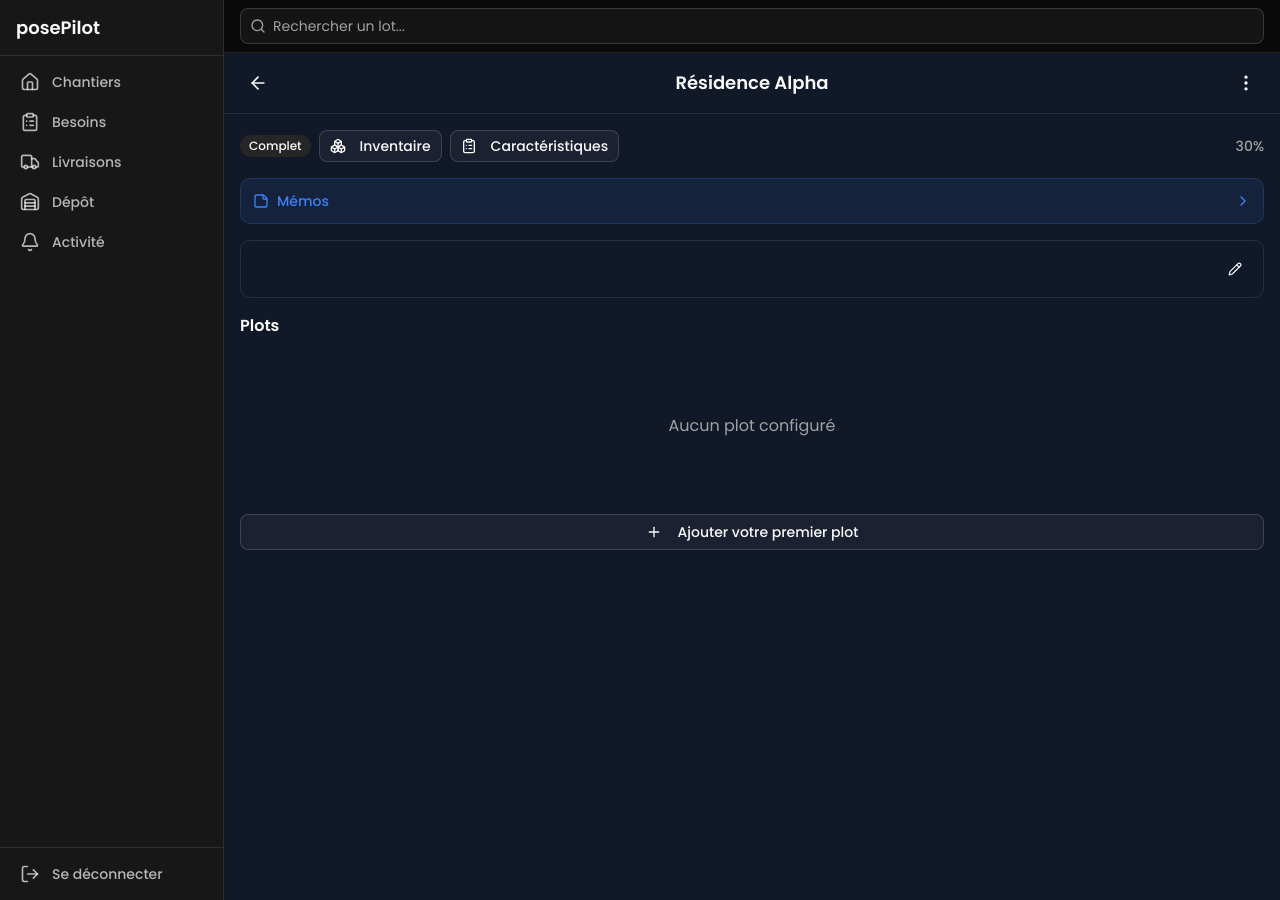
it: ChantierPage › opens dropdown menu with "Marquer comme terminé" and "Supprimer" options
This screenshot has width=1280, height=900.
Expected: the heading "Résidence Alpha" is shown, [676, 69, 829, 97]
Click the button named "Options du chantier": [1246, 83] box [1228, 65, 1264, 101]
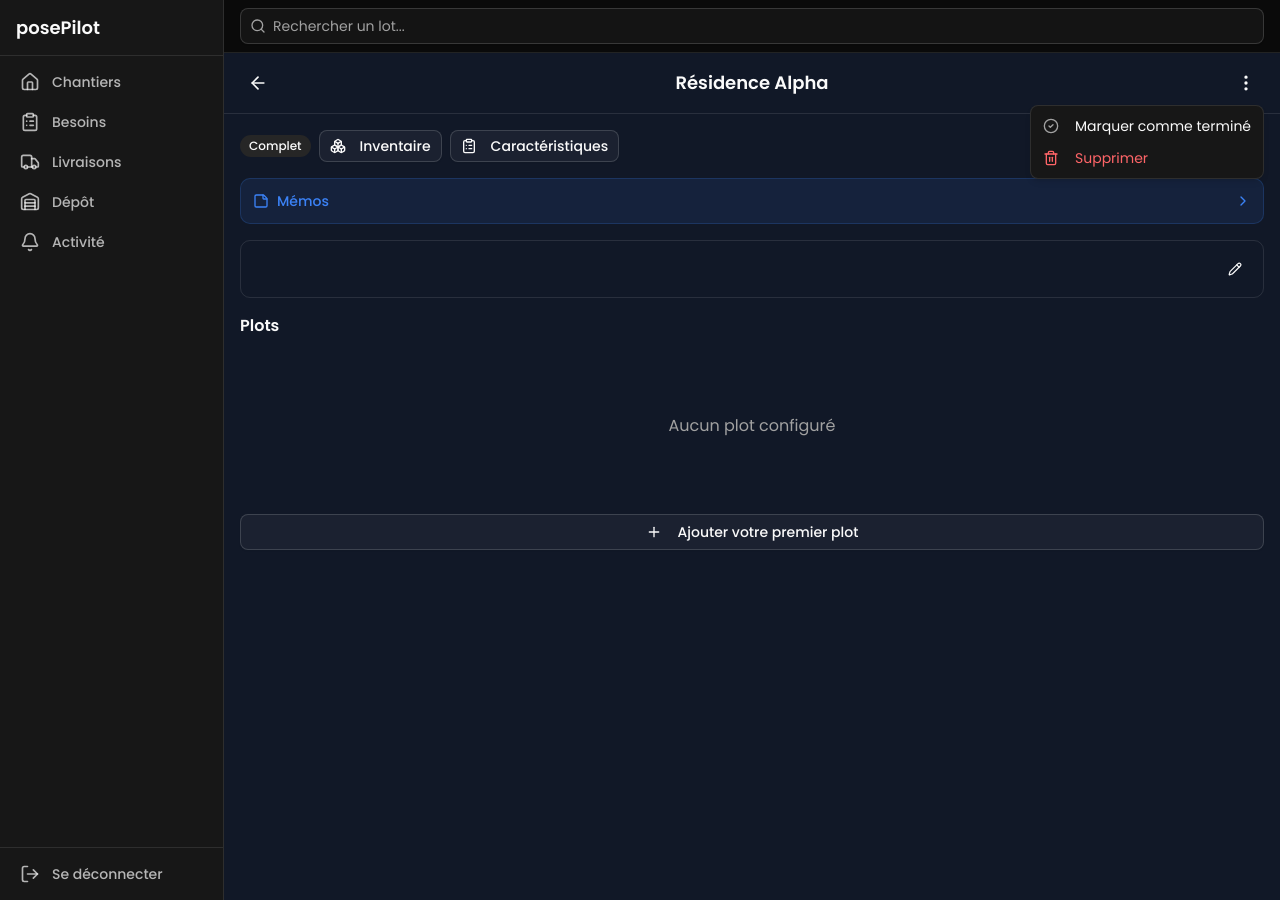
Now the menu item "Marquer comme terminé" is shown, box [1035, 110, 1259, 142]
Now the menu item "Supprimer" is shown, box [1043, 148, 1148, 168]
